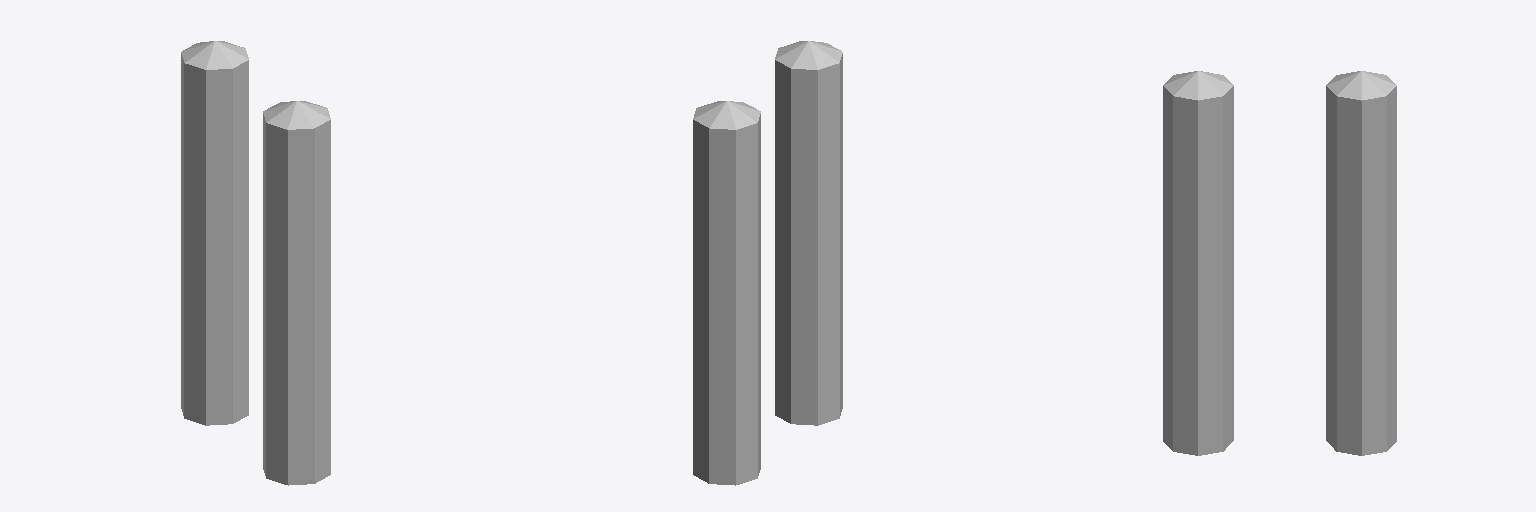
The model's file is Prop_Docks_Straight_Supports.obj.
The picture shows the model from 3 angles: view 1: azimuth 30°, elevation 25°; view 2: azimuth 150°, elevation 25°; view 3: azimuth 270°, elevation 25°; orthographic projection.
Parts seen in each view (by area): view 1: object2, object1; view 2: object1, object2; view 3: object1, object2.
Part boxes in pixels (x1,y1,x2,y2): object2: (181,41,248,425); object1: (263,101,330,485); object1: (775,41,842,425); object2: (693,101,760,485); object1: (1163,71,1233,455); object2: (1326,71,1396,455).
Size of the model in its own units: 0.2165 by 1.25 by 0.7165.